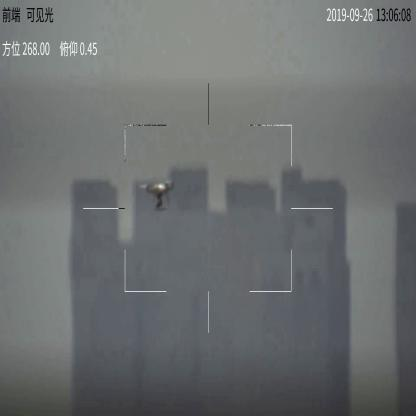uav: (141, 178, 178, 213)
